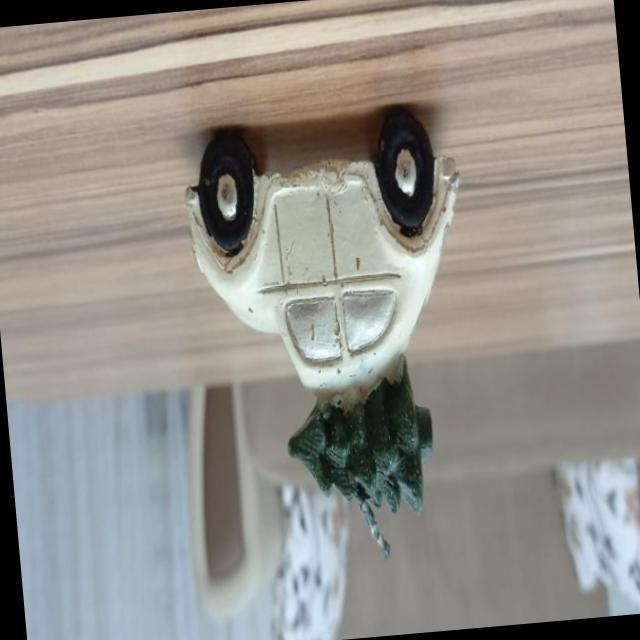car: (175, 109, 488, 406)
